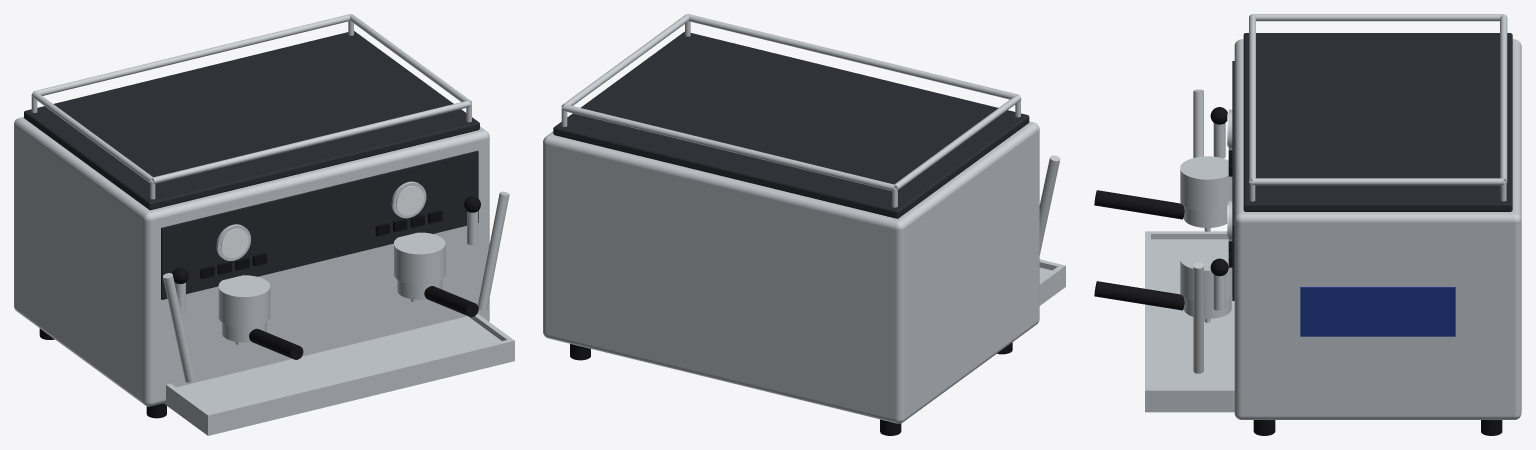
File: espresso.glb
3 views of the same model, side by side, from view 1: azimuth 30°, elevation 25°; view 2: azimuth 150°, elevation 25°; view 3: azimuth 270°, elevation 25° (orthographic). The views are drawn at different scales.
Visible parts, largest first — view 1: body, cup_tray, drip_tray, front_panel, rail, group_head (×2), steam_wands (×2), handles (×2), gauge_face (×2), portafilter (×2); view 2: body, cup_tray, rail, drip_tray, steam_wands; view 3: body, cup_tray, drip_tray, side_plate, rail, group_head (×2), handles (×2), steam_wands (×4), portafilter (×2), front_panel.
Part boxes in pixels (box(x1,y1,x2,y2)): body: box(14, 117, 489, 406); cup_tray: box(24, 31, 479, 210); drip_tray: box(164, 313, 514, 435); front_panel: box(161, 150, 478, 299); rail: box(31, 14, 471, 199); group_head (×2): box(218, 232, 445, 327); steam_wands (×2): box(163, 191, 509, 382); handles (×2): box(249, 286, 478, 359); gauge_face (×2): box(221, 186, 423, 258); portafilter (×2): box(222, 279, 442, 342); body: box(543, 121, 1039, 423); cup_tray: box(553, 31, 1029, 218); rail: box(561, 14, 1021, 207); drip_tray: box(1039, 259, 1065, 305); steam_wands: box(1039, 155, 1060, 254); body: box(1234, 39, 1521, 419); cup_tray: box(1243, 33, 1512, 211); drip_tray: box(1145, 231, 1234, 412); side_plate: box(1300, 287, 1455, 336); rail: box(1249, 14, 1507, 201); group_head (×2): box(1180, 156, 1232, 302); handles (×2): box(1094, 190, 1184, 310); steam_wands (×4): box(1193, 89, 1225, 373); portafilter (×2): box(1183, 206, 1231, 318); front_panel: box(1232, 61, 1234, 300).
Size of the model in its own units: 0.714 by 0.476 by 0.7144.
